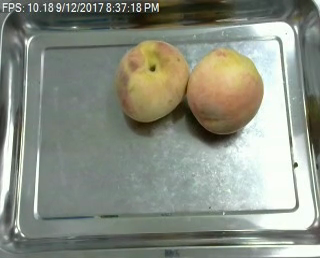Peach: (186, 46, 263, 134), (116, 39, 188, 121)
